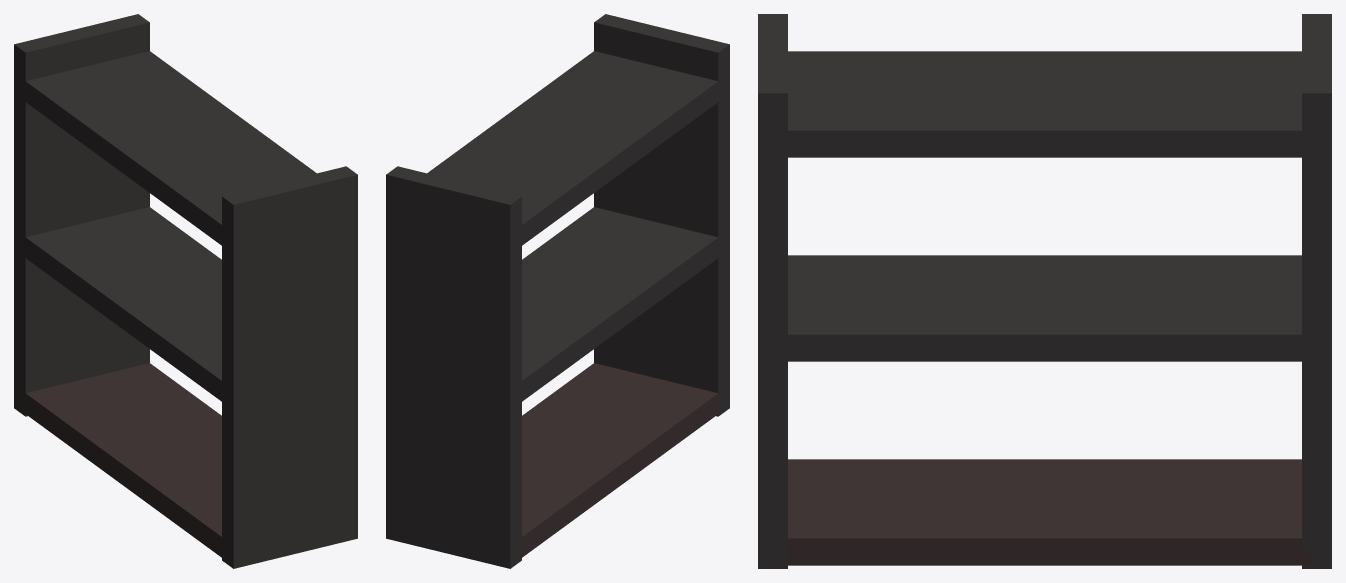
File: vendor.gltf
The picture shows the model from 3 angles, left to right: view 1: azimuth 30°, elevation 25°; view 2: azimuth 150°, elevation 25°; view 3: azimuth 270°, elevation 25°; orthographic projection. The views are drawn at different scales.
Visible parts, largest first — view 1: group; view 2: group; view 3: group.
Part boxes in pixels (x1,y1,x2,y2): group: (14,14,357,568); group: (386,14,729,568); group: (758,14,1331,568).
Size of the model in its own units: 0.1562 by 0.4375 by 0.4781.
Materials: 1 (1 with a texture image).
